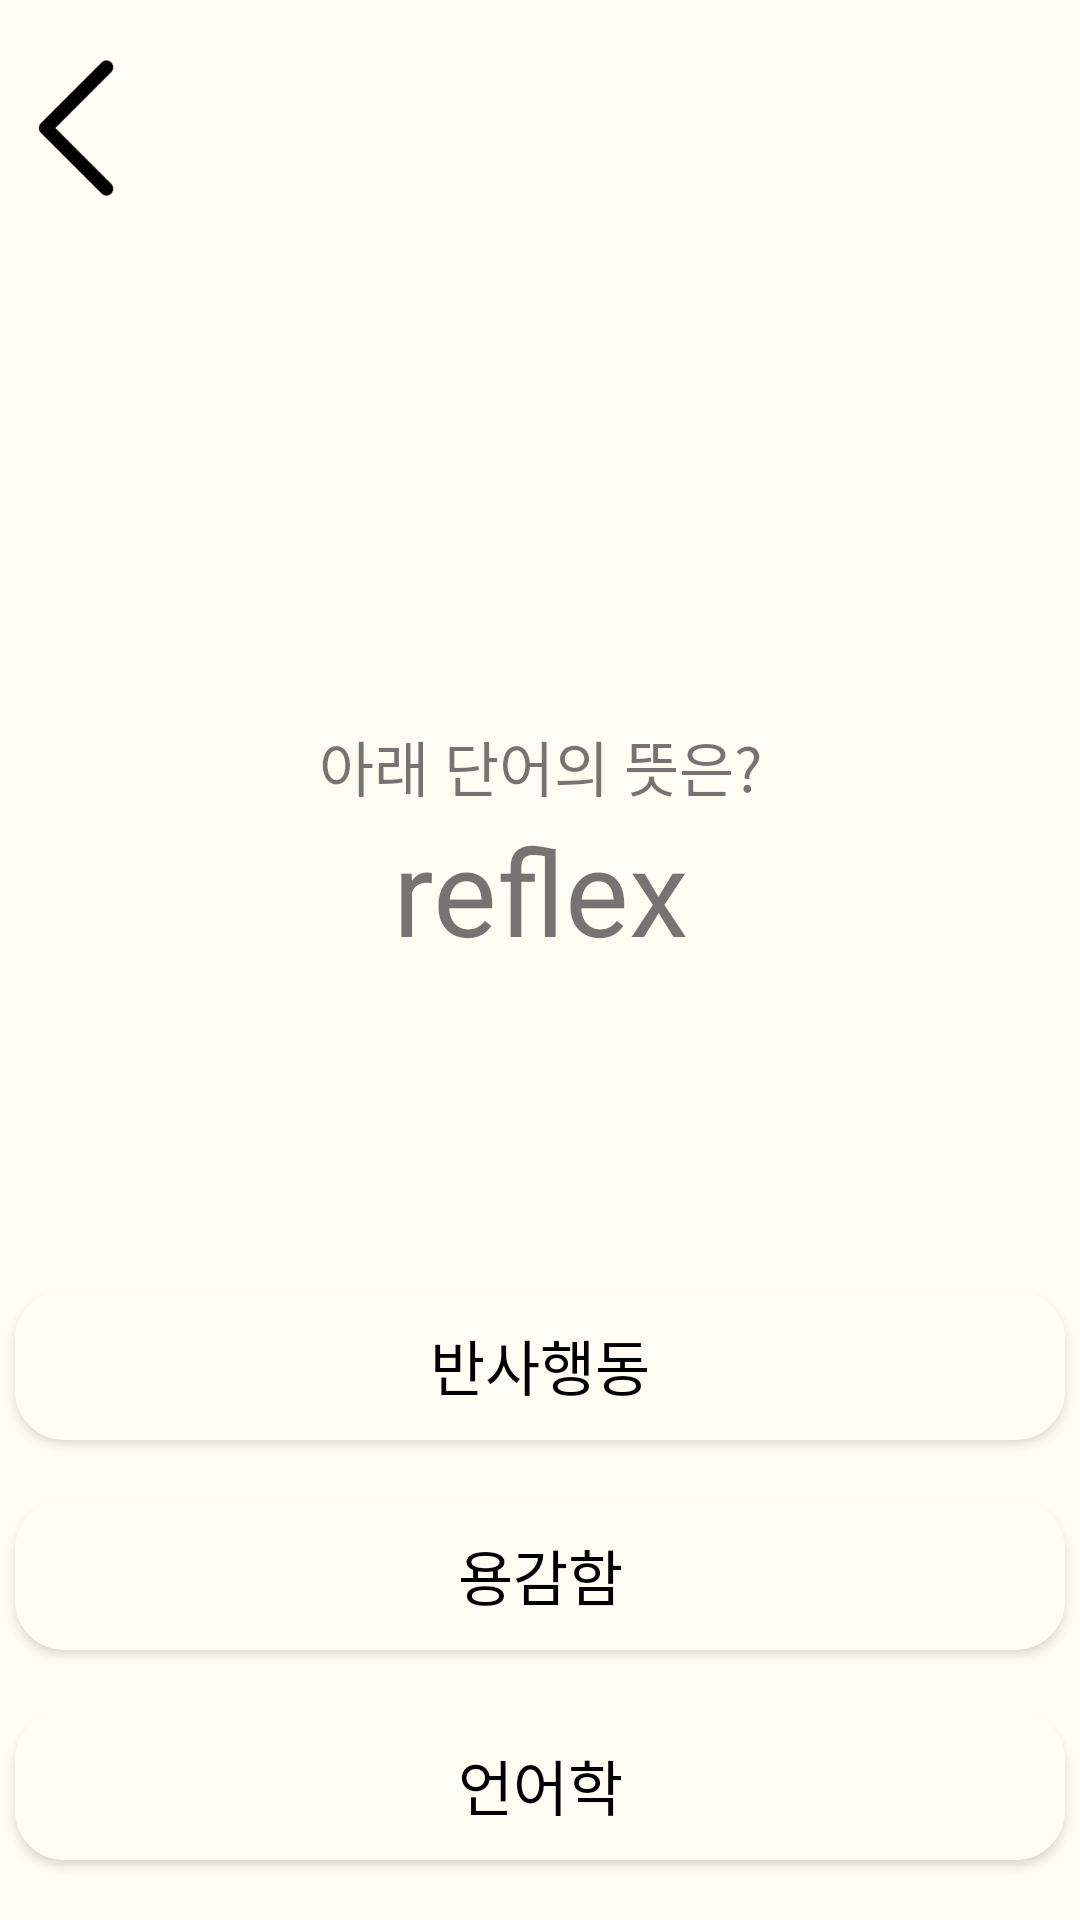

Screen size 1080*1920. Icon name, then its center in pixels as [x,y]:
backbutton: [76,128]
